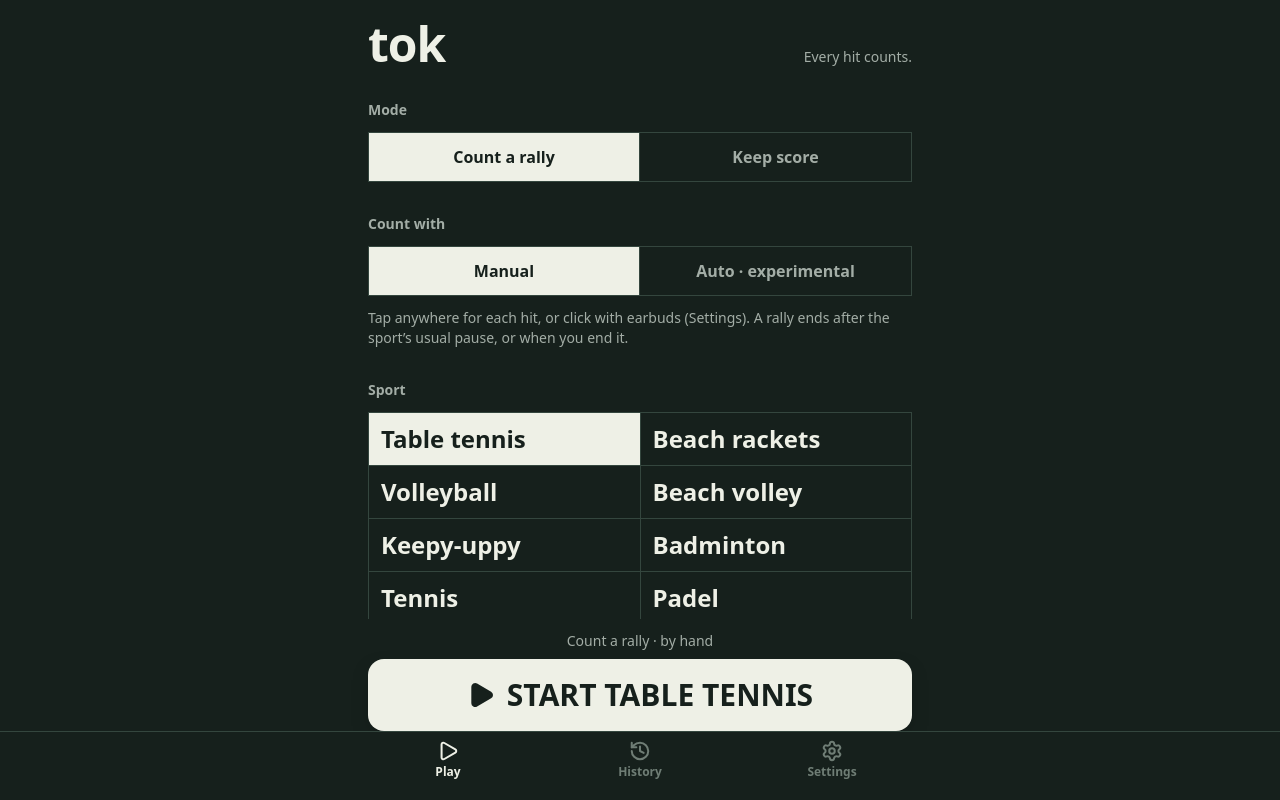
Scenario: a session can be ended without saving it
The width and height of the screenshot is (1280, 800).
Click the button "Start table tennis".
click(640, 695)  # box [368,659,912,731]
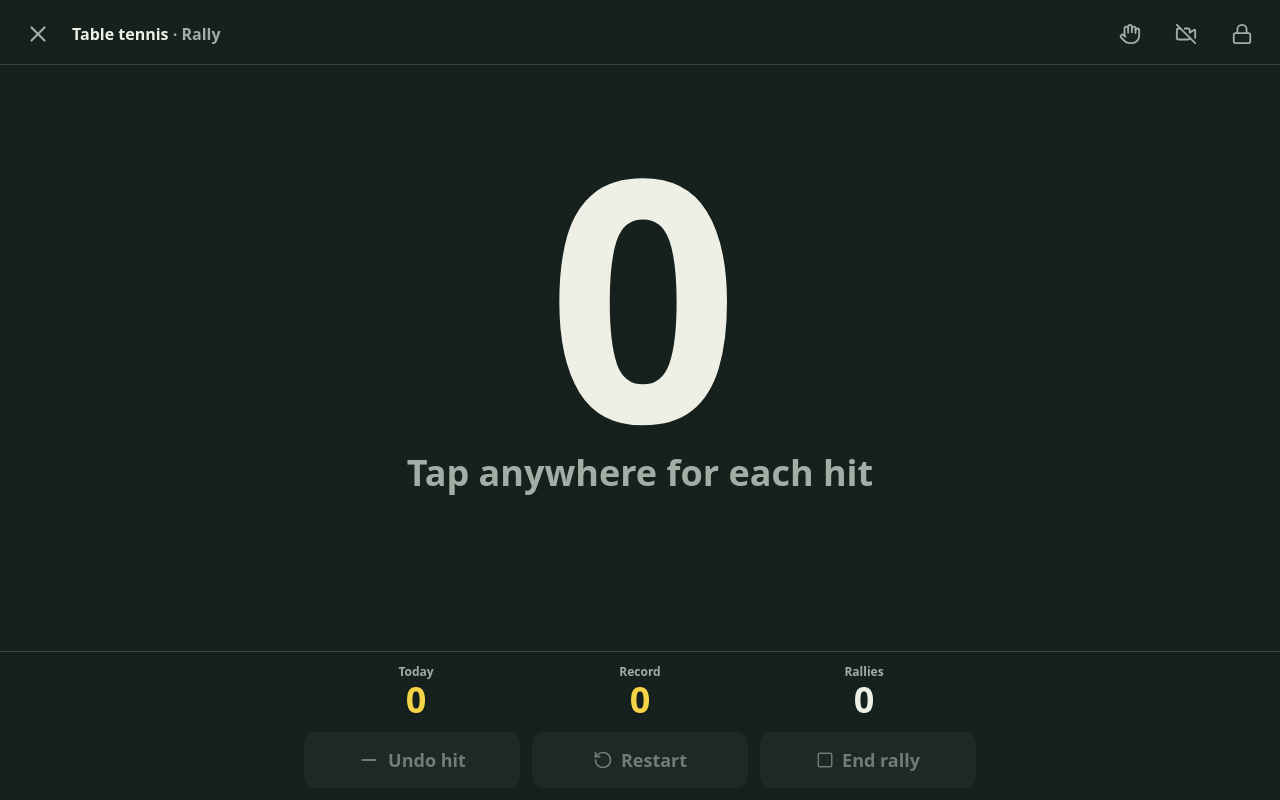
Click the button named "add a hit".
click(640, 358)  # box [0,65,1279,651]
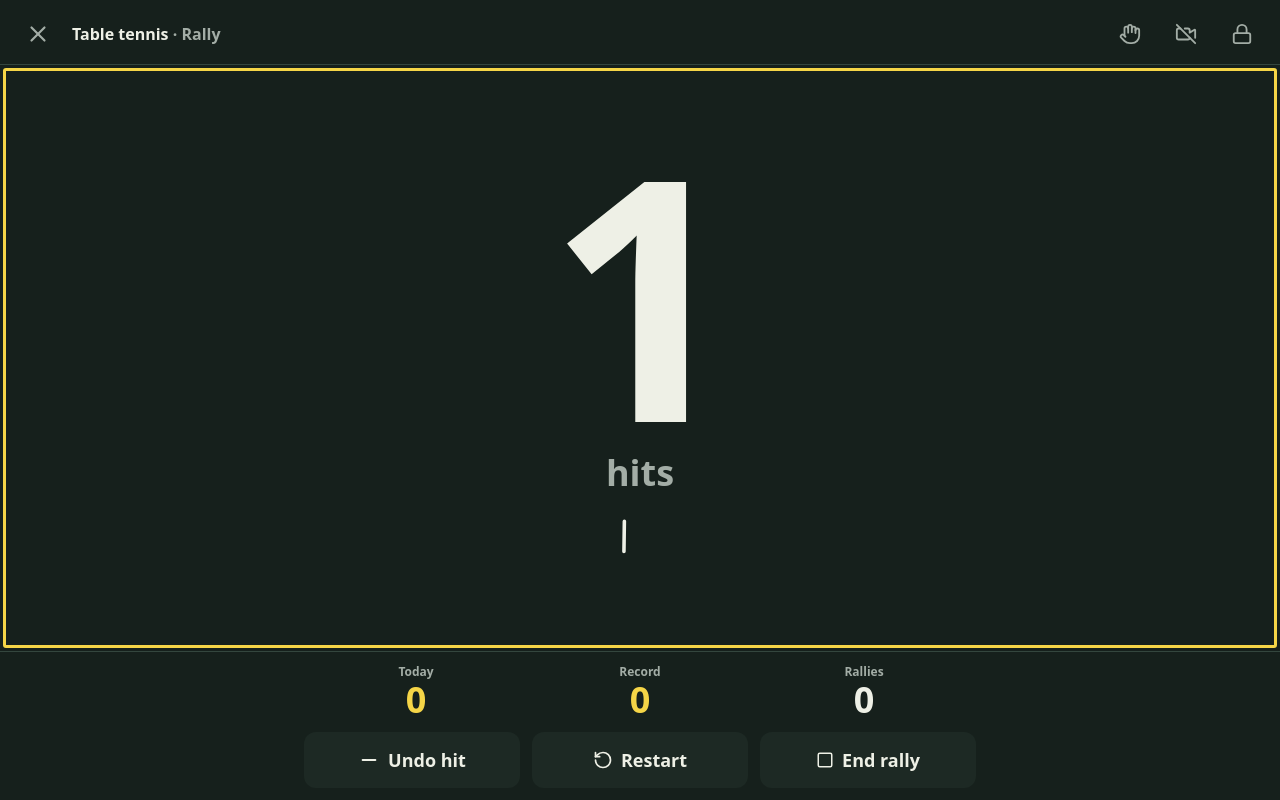
Click the button named "add a hit".
click(640, 358)  # box [0,65,1279,651]
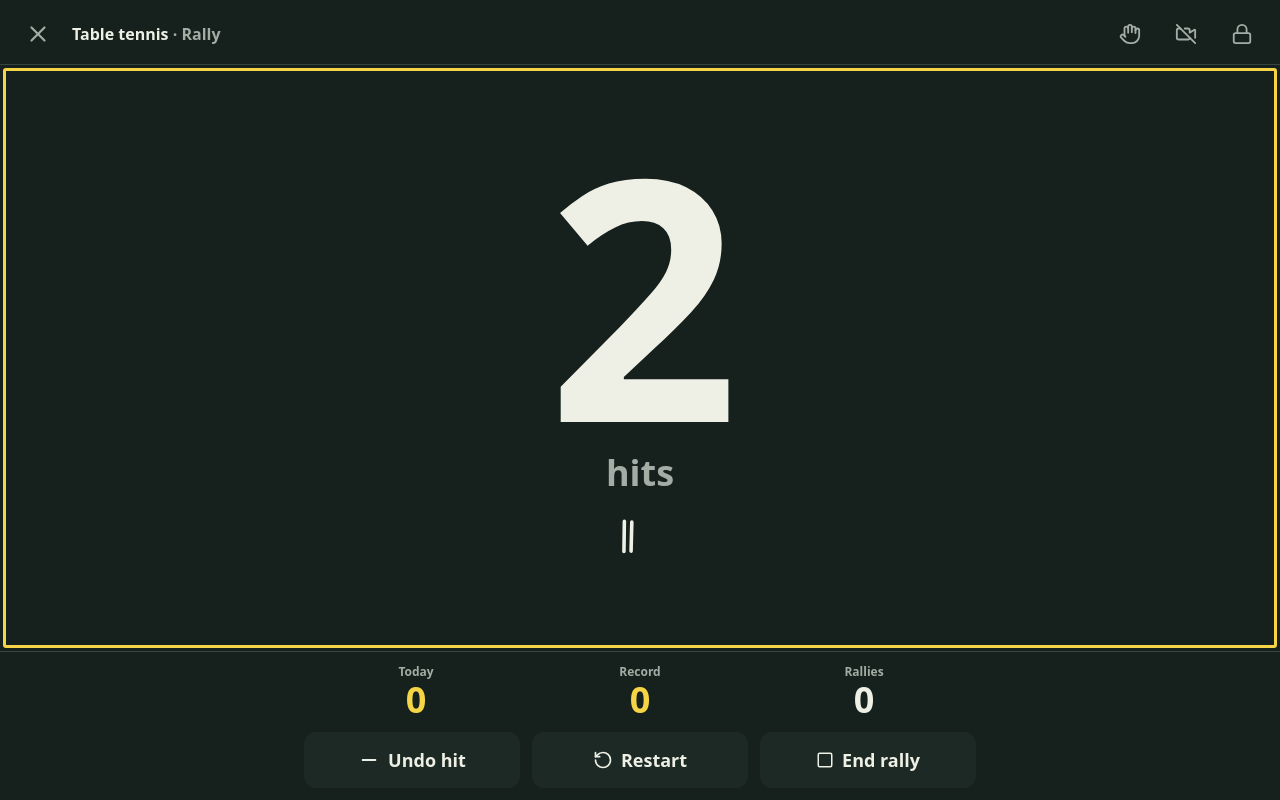
Click the button "End rally".
click(868, 760)  # box [760,732,976,788]
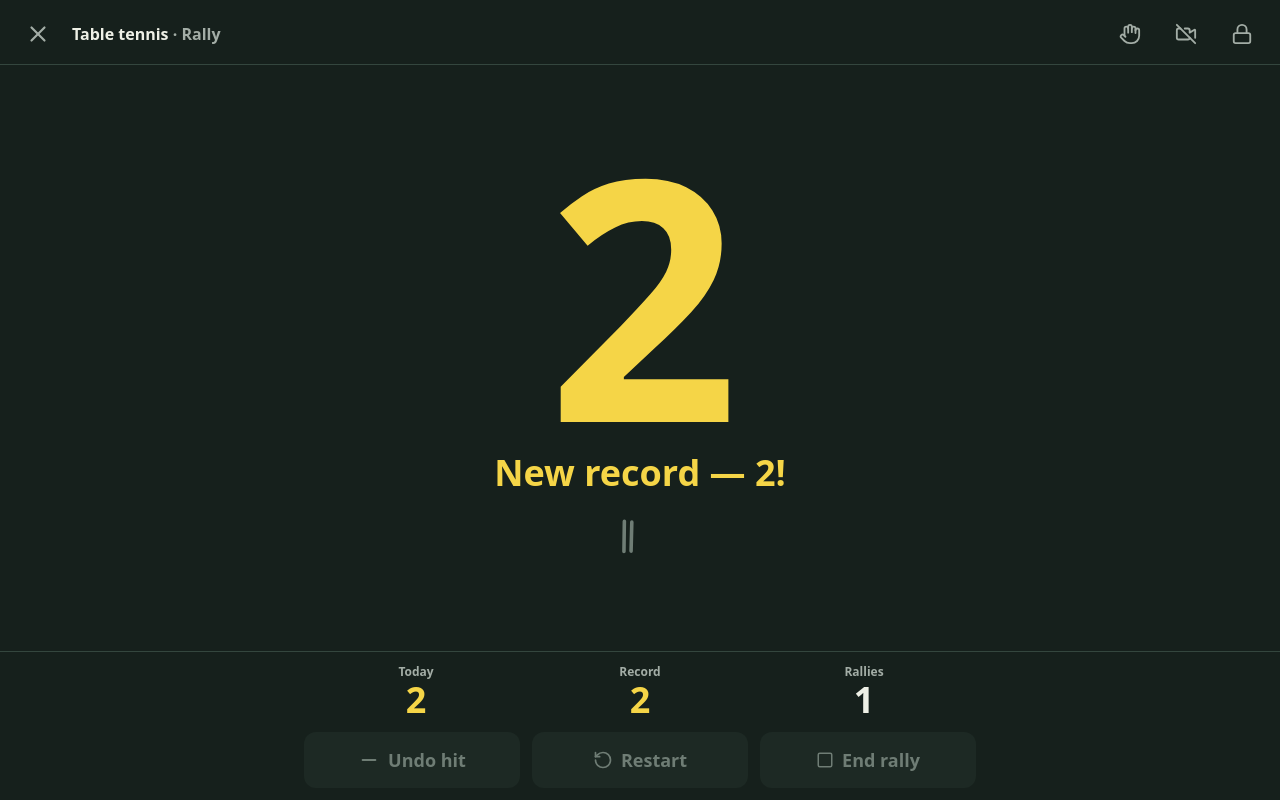
// The finished rally was already saved, as every rally is.
Click the button named "end session".
click(38, 34)  # box [16,12,60,56]
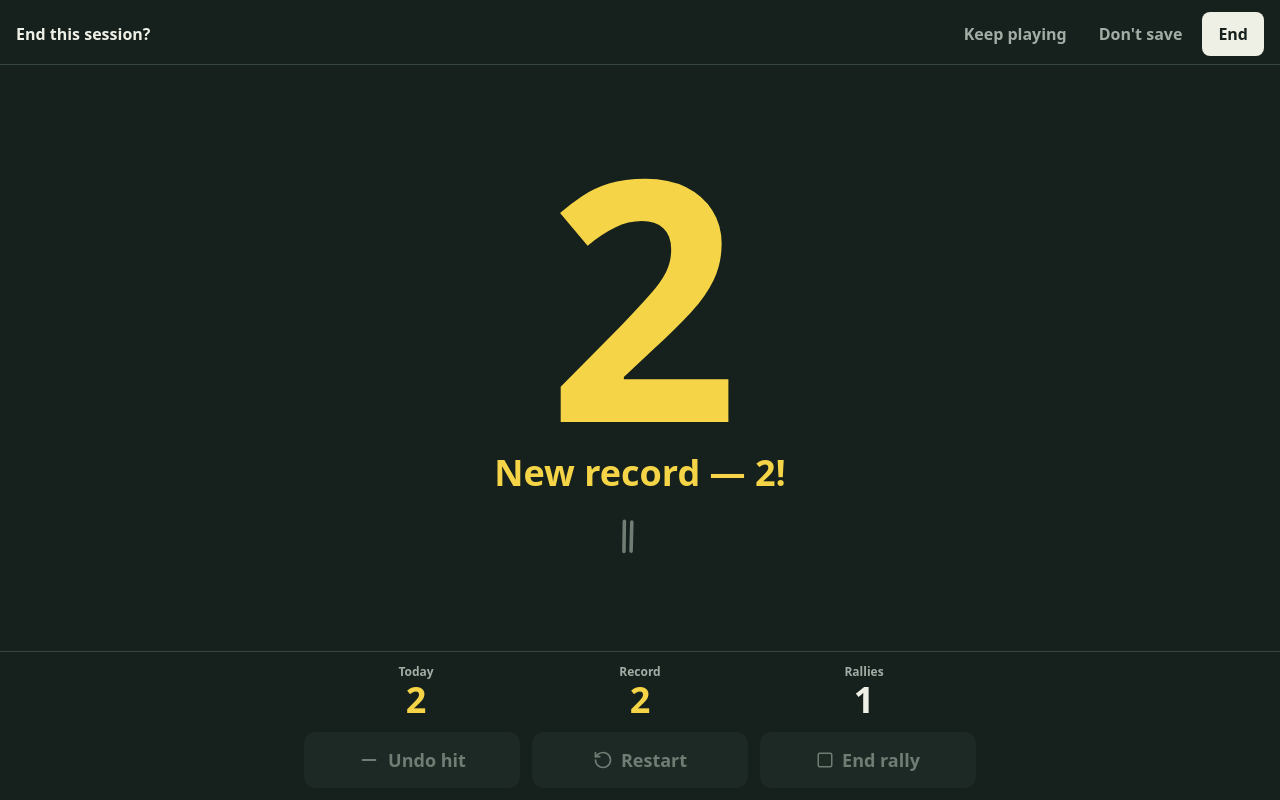
Click the button "Don't save".
click(1141, 34)  # box [1087,12,1194,56]
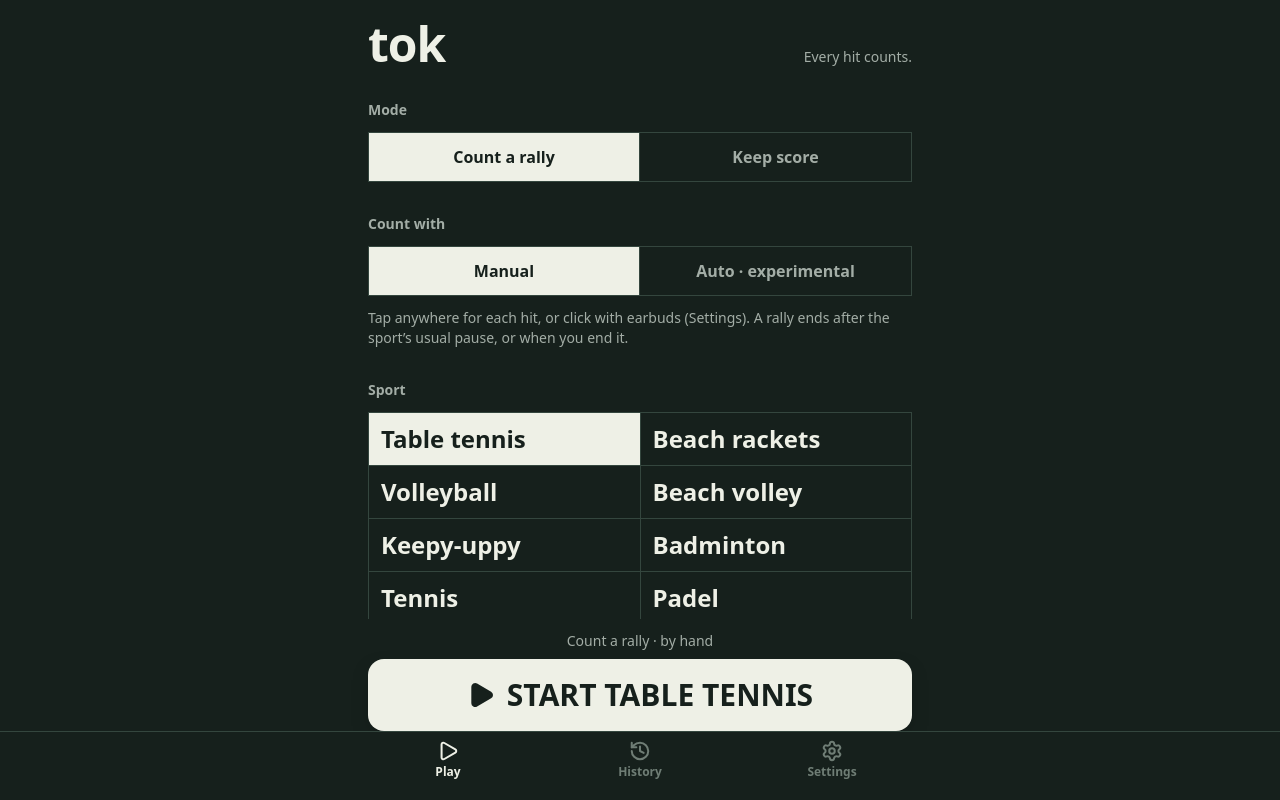
expect the button "Start table tennis" is shown: met, box [368,659,912,731]
